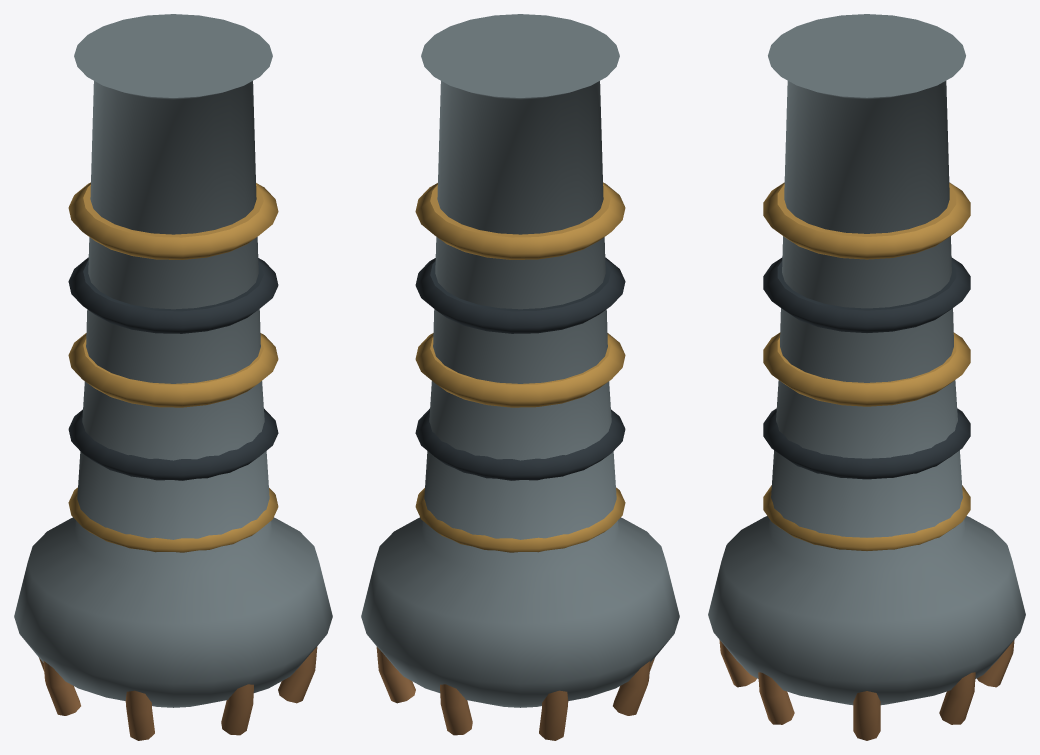
The model's file is kharon_driver_ram.glb.
3 renders of one model, left to right at view 1: azimuth 30°, elevation 25°; view 2: azimuth 150°, elevation 25°; view 3: azimuth 270°, elevation 25°, orthographic.
Parts seen in each view (by area): view 1: kharon_driver_ram; view 2: kharon_driver_ram; view 3: kharon_driver_ram.
Boxes of the visible parts, box(x1,y1,x2,y2) form: kharon_driver_ram: box(14, 14, 332, 740); kharon_driver_ram: box(361, 14, 679, 740); kharon_driver_ram: box(708, 14, 1025, 740).
Size of the model in its own units: 2.82 by 6.15 by 2.82.
